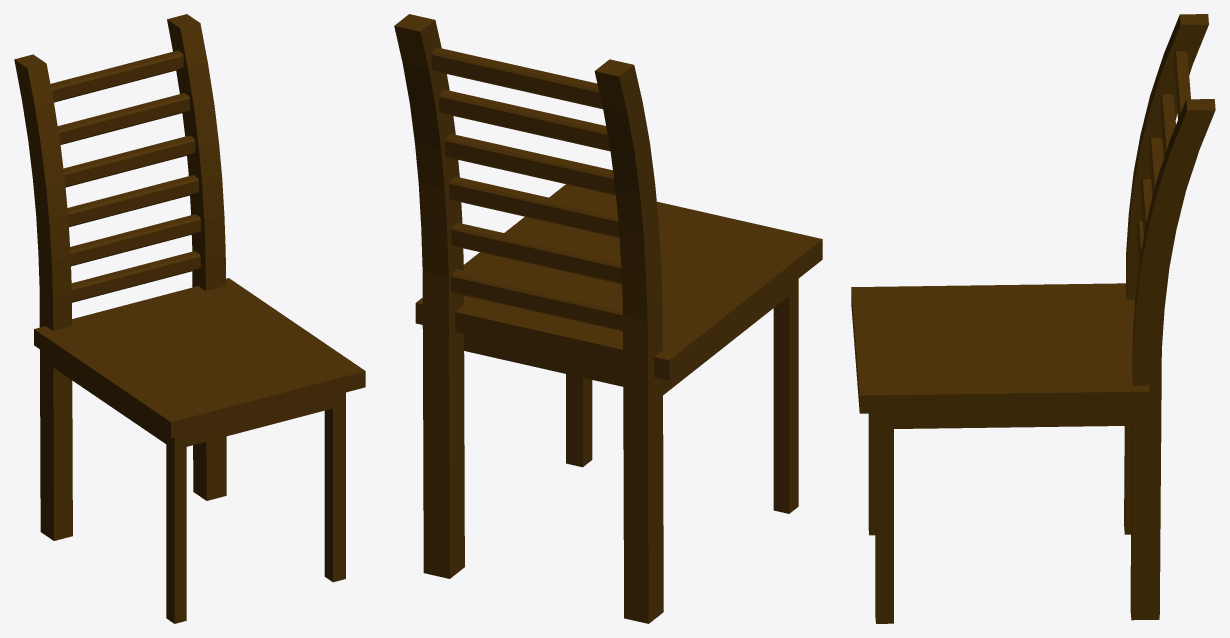
File: chair_separated.fbx
3 views of the same model, side by side, from view 1: azimuth 30°, elevation 25°; view 2: azimuth 150°, elevation 25°; view 3: azimuth 270°, elevation 25° (orthographic). The views are drawn at different scales.
Parts seen in each view (by area): view 1: pasted__pasted__pasted__chair1_pasted__pasted__pCube6; view 2: pasted__pasted__pasted__chair1_pasted__pasted__pCube6; view 3: pasted__pasted__pasted__chair1_pasted__pasted__pCube6.
Boxes of the visible parts, x1,y1,x2,y2 form: pasted__pasted__pasted__chair1_pasted__pasted__pCube6: (14,14,365,623); pasted__pasted__pasted__chair1_pasted__pasted__pCube6: (394,14,822,623); pasted__pasted__pasted__chair1_pasted__pasted__pCube6: (851,14,1215,623).
Size of the model in its own units: 56.46 by 119 by 77.34.
